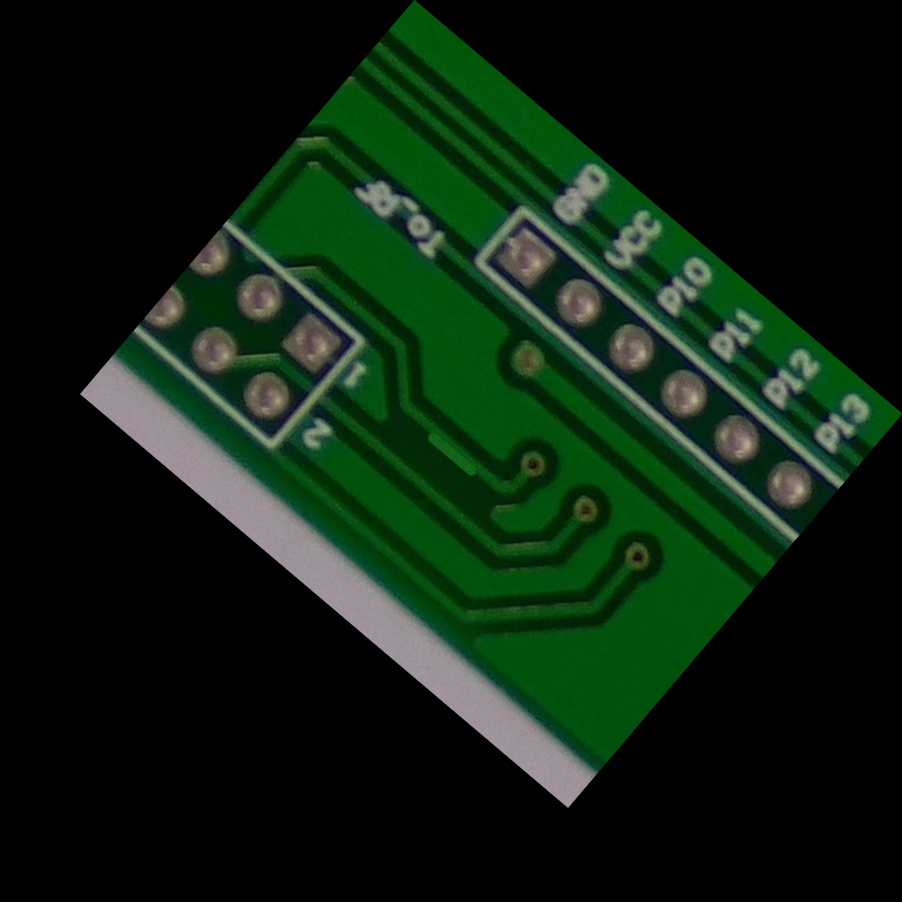spur: (404, 406, 499, 497)
